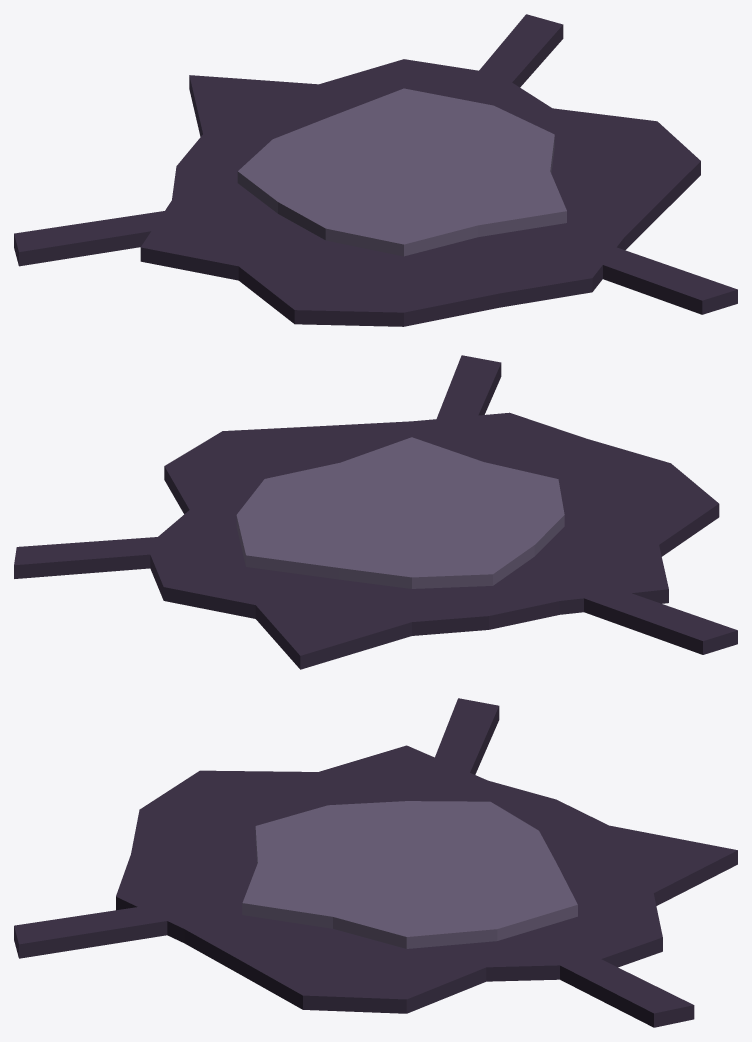
Rendered from scorch-city.glb.
3 renders of one model, top to bottom at view 1: azimuth 30°, elevation 25°; view 2: azimuth 150°, elevation 25°; view 3: azimuth 270°, elevation 25°, orthographic. The views are drawn at different scales.
Parts seen in each view (by area): view 1: scorch-city; view 2: scorch-city; view 3: scorch-city.
Boxes of the visible parts, left/top/right/bottom form: scorch-city: left=14, top=14, right=737, bottom=326; scorch-city: left=14, top=355, right=737, bottom=669; scorch-city: left=14, top=698, right=737, bottom=1027.
Bounding box in the file's own units: 1.42 × 0.055 × 1.37.
